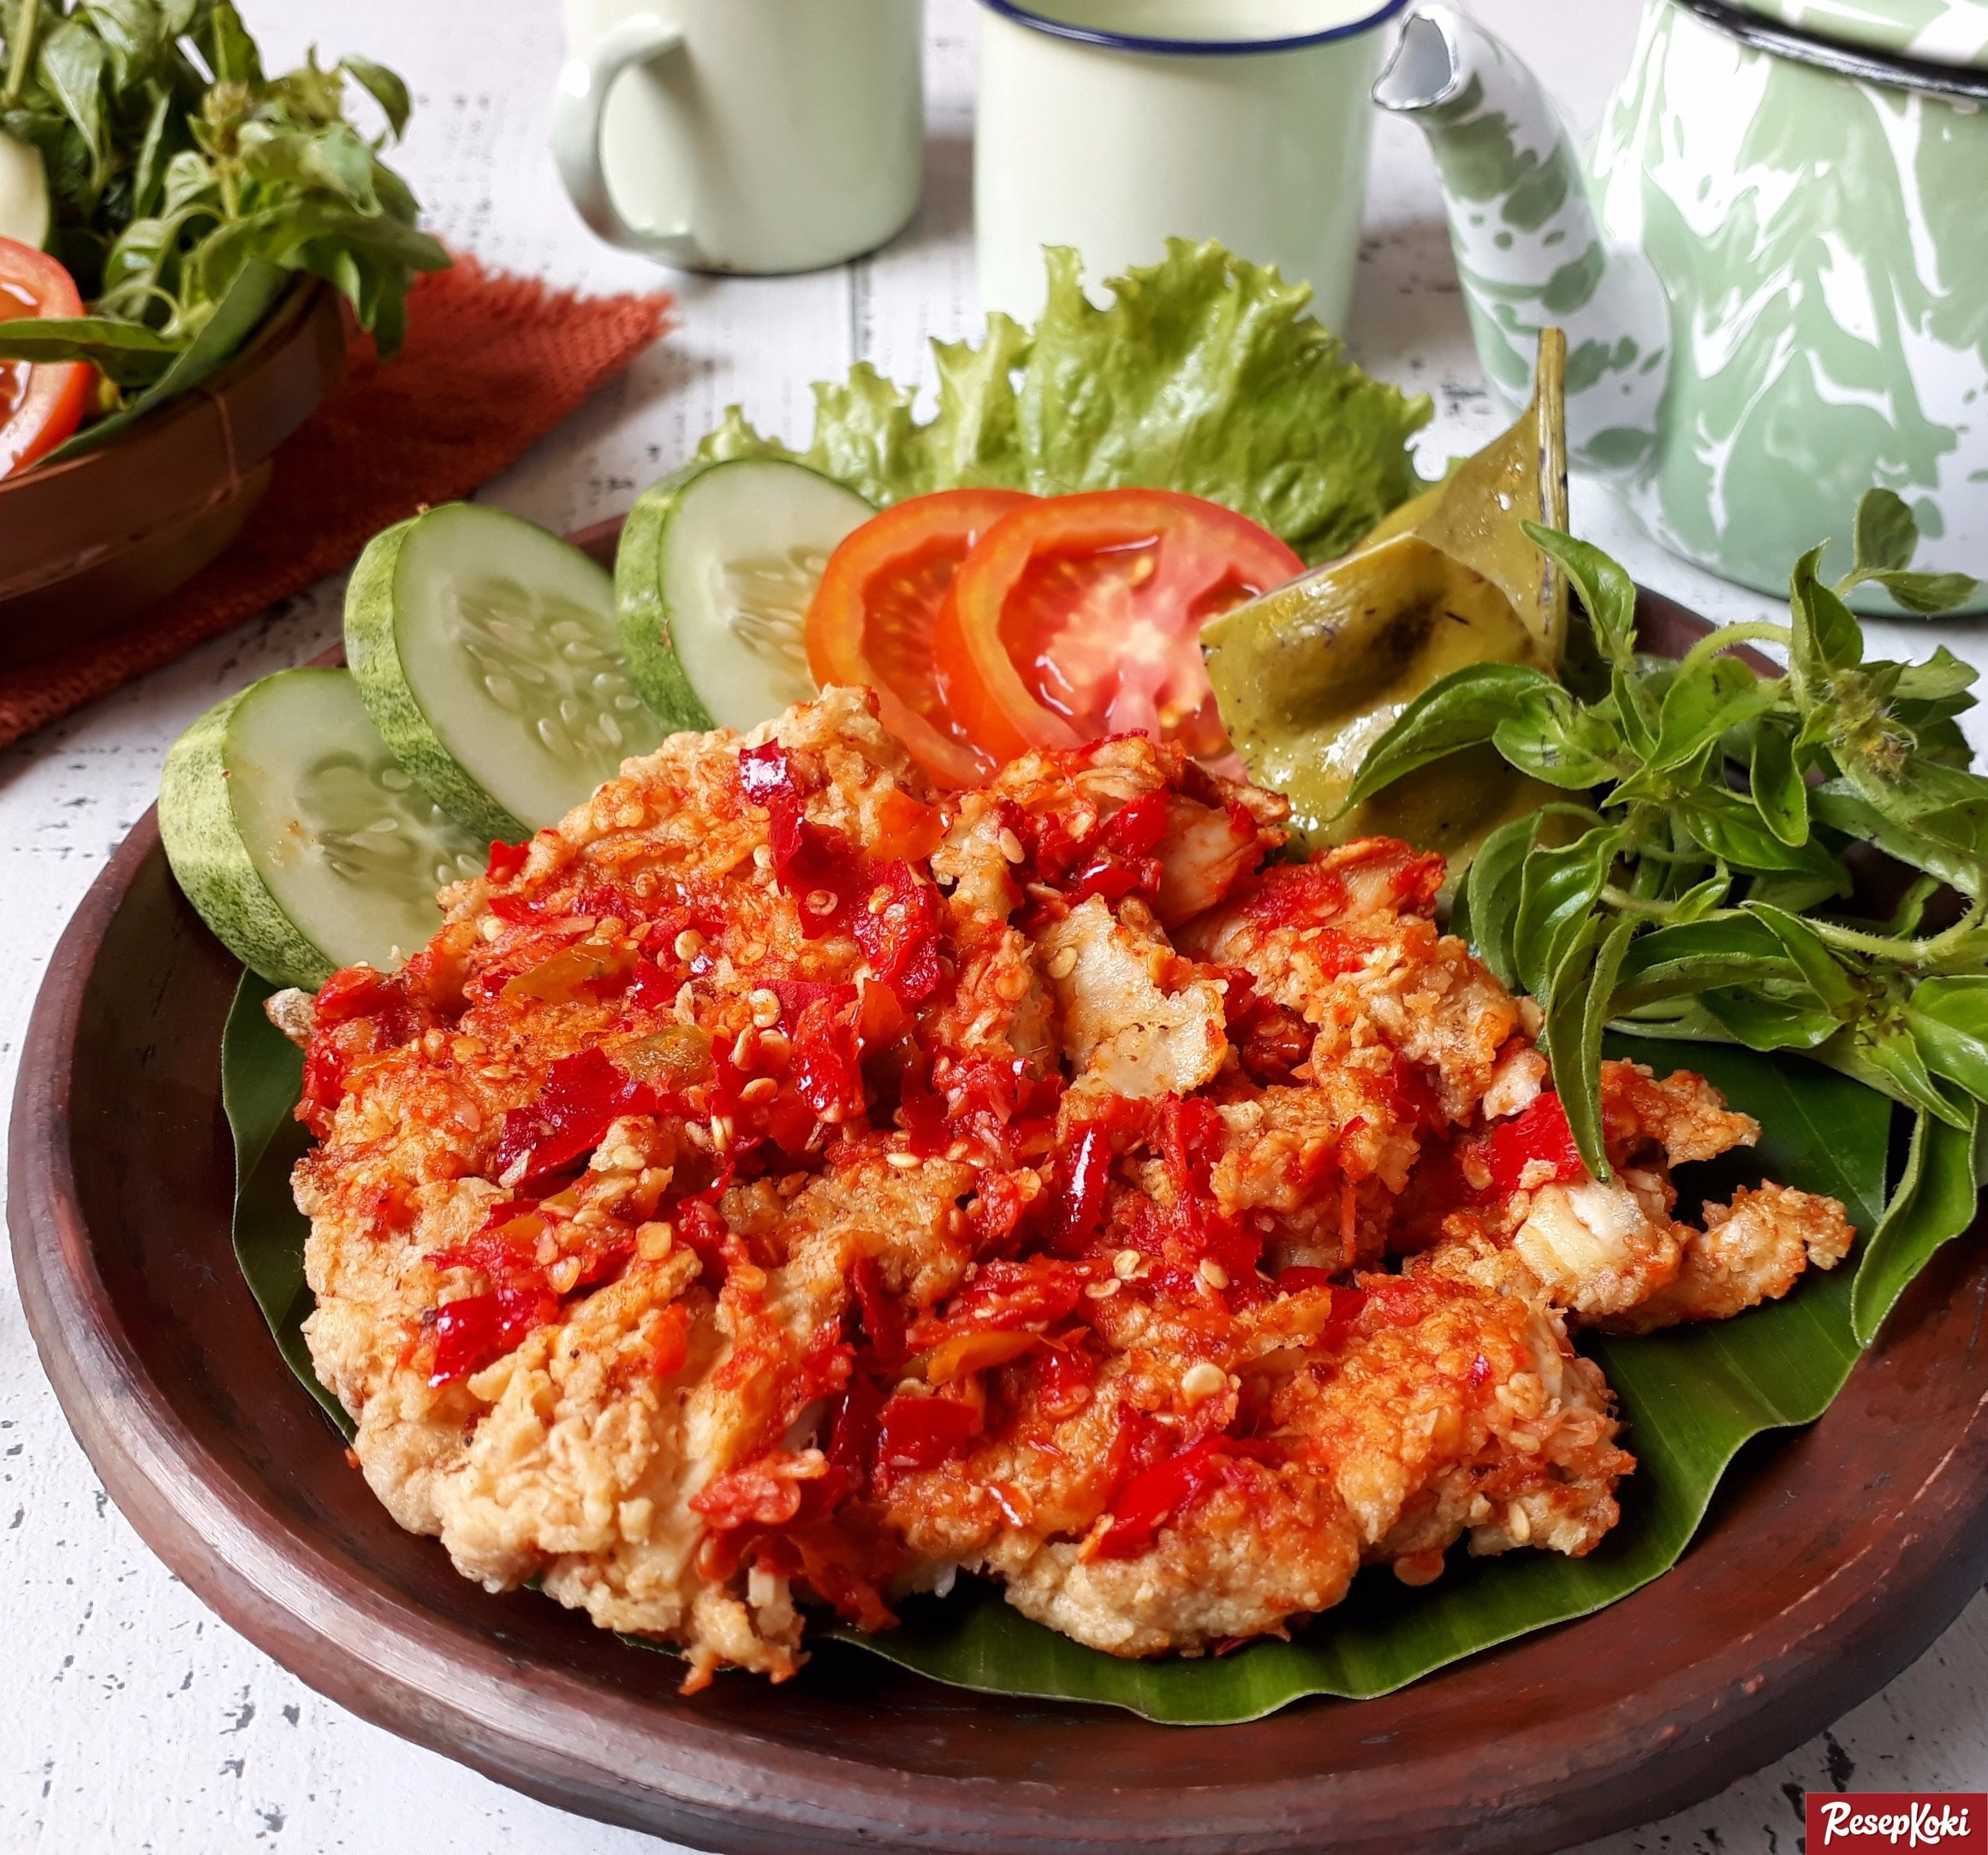ayam_geprek: (194, 713, 1730, 1665)
